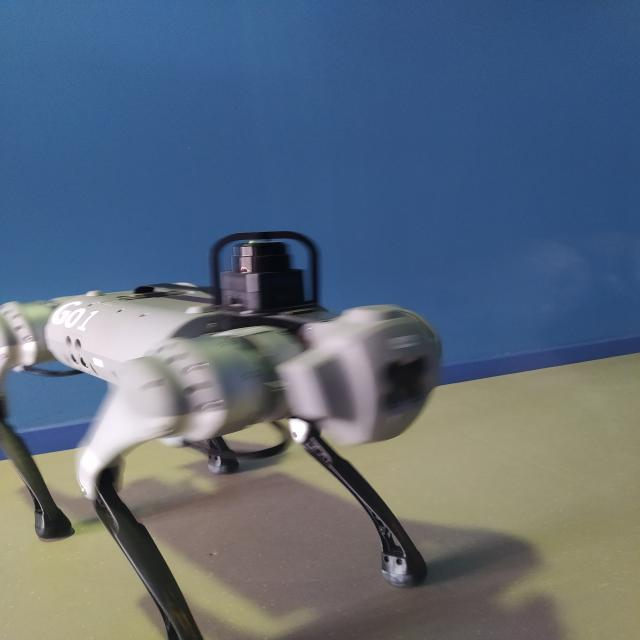unitree-go1-robot: (0, 223, 487, 640)
